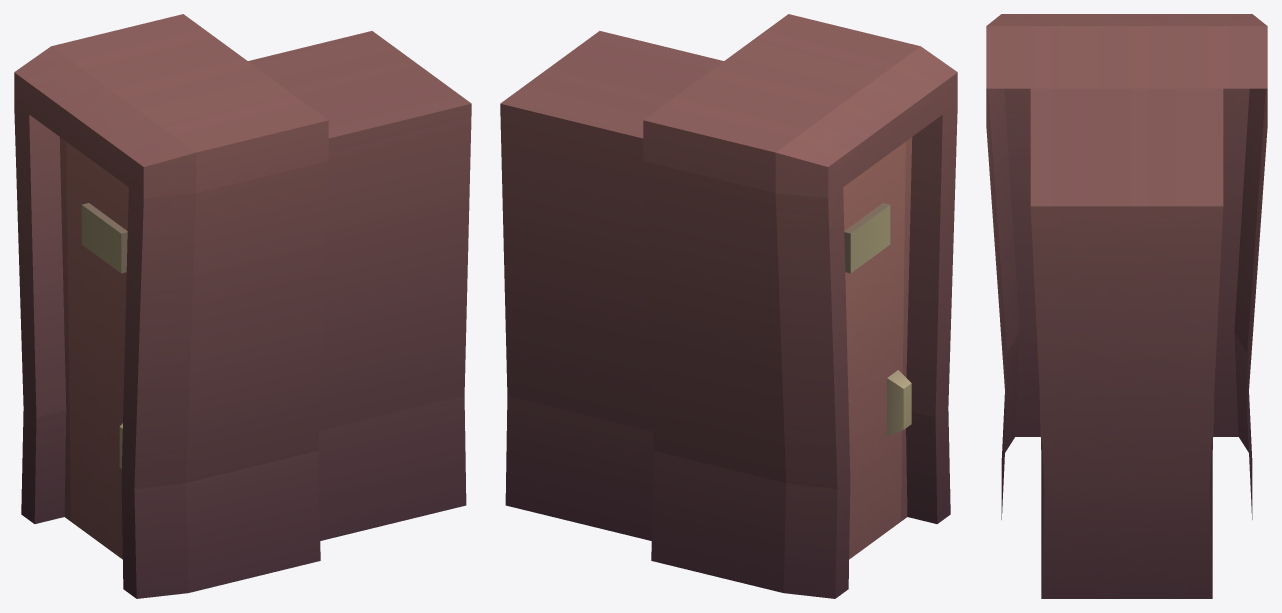
The model's file is SM_HotelDoorClosed.fbx.
3 views of the same model, side by side, from view 1: azimuth 30°, elevation 25°; view 2: azimuth 150°, elevation 25°; view 3: azimuth 270°, elevation 25° (orthographic). The views are drawn at different scales.
Parts seen in each view (by area): view 1: SM_HotelDoorClosed; view 2: SM_HotelDoorClosed; view 3: SM_HotelDoorClosed.
Part boxes in pixels (x1,y1,x2,y2): SM_HotelDoorClosed: [14, 14, 471, 598]; SM_HotelDoorClosed: [500, 14, 957, 598]; SM_HotelDoorClosed: [986, 14, 1267, 598].
Size of the model in its own units: 230 by 169 by 286.
